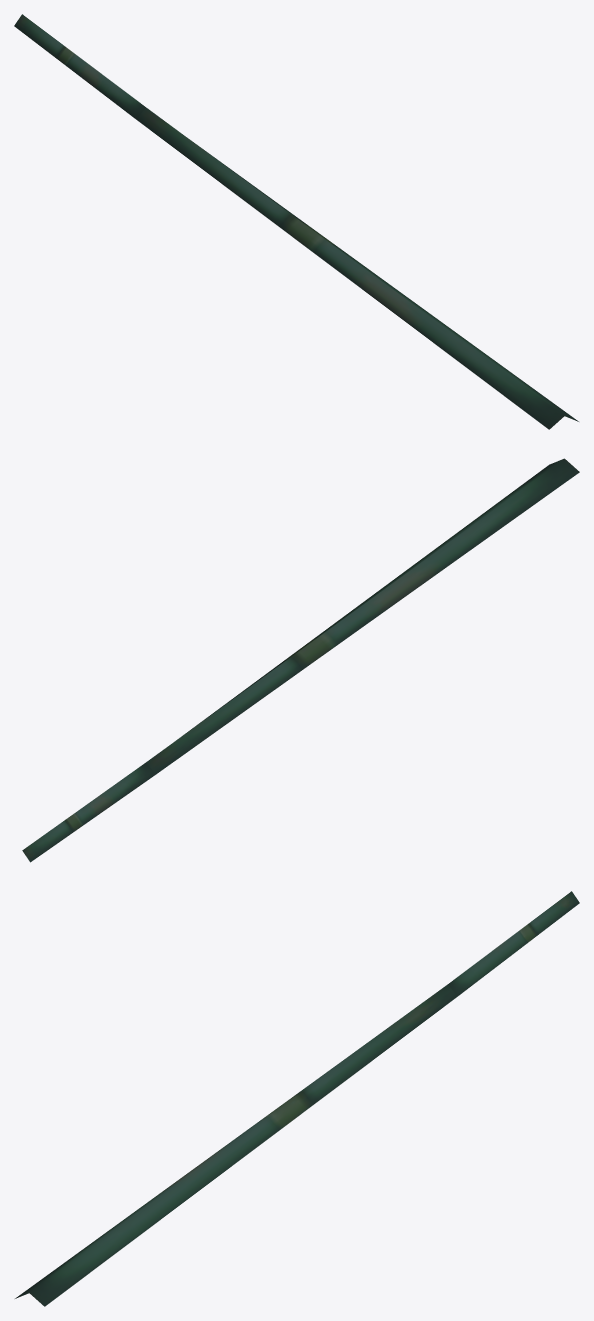
Rendered from pipe_billboard01.glb.
3 renders of one model, top to bottom at view 1: azimuth 30°, elevation 25°; view 2: azimuth 150°, elevation 25°; view 3: azimuth 330°, elevation 25°, orthographic.
Parts seen in each view (by area): view 1: pipeworks.pipe_billboard01-Mesh[0]; view 2: pipeworks.pipe_billboard01-Mesh[0]; view 3: pipeworks.pipe_billboard01-Mesh[0].
Boxes of the visible parts, bbox=[...] form: pipeworks.pipe_billboard01-Mesh[0]: bbox=[14, 14, 578, 429]; pipeworks.pipe_billboard01-Mesh[0]: bbox=[22, 458, 579, 862]; pipeworks.pipe_billboard01-Mesh[0]: bbox=[15, 891, 579, 1306].
Size of the model in its own units: 1.29 by 0.6 by 39.4.
Materials: 1 (1 with a texture image).
